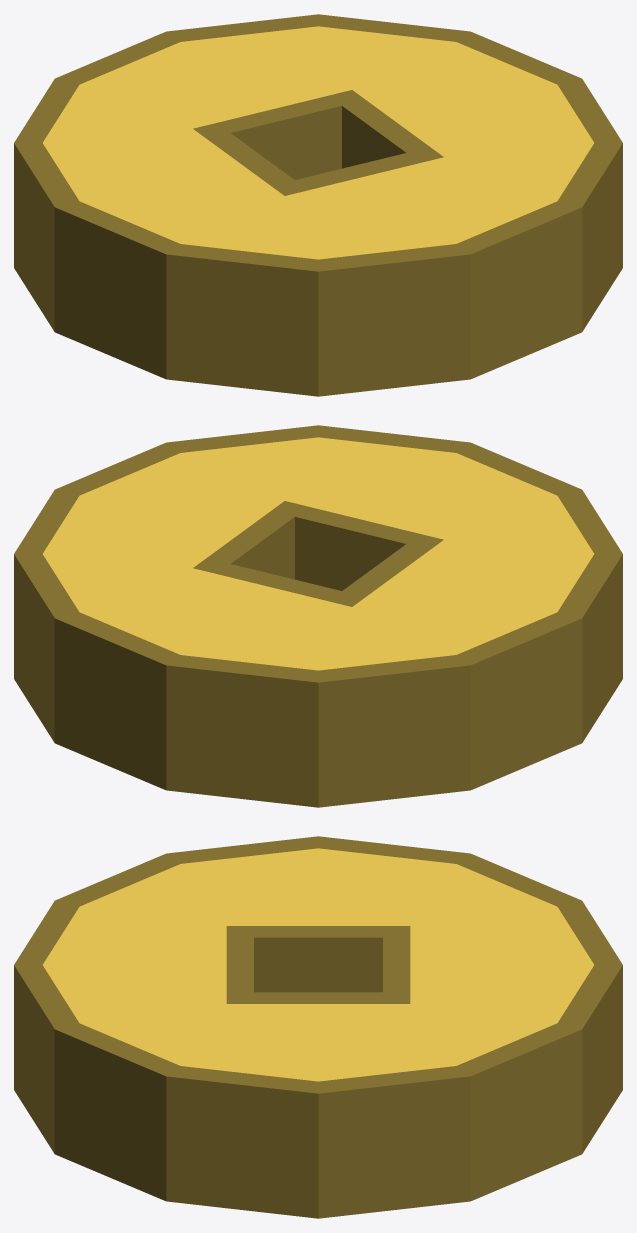
Rendered from gold_coin.fbx.
3 views of the same model, one above another, from view 1: azimuth 30°, elevation 25°; view 2: azimuth 150°, elevation 25°; view 3: azimuth 270°, elevation 25° (orthographic).
Visible parts, largest first — view 1: gold_coin; view 2: gold_coin; view 3: gold_coin.
Boxes of the visible parts, box(x1,y1,x2,y2) form: gold_coin: box(14, 14, 622, 396); gold_coin: box(14, 425, 622, 807); gold_coin: box(14, 836, 622, 1218).
Size of the model in its own units: 33.11 by 7.5 by 33.11.
